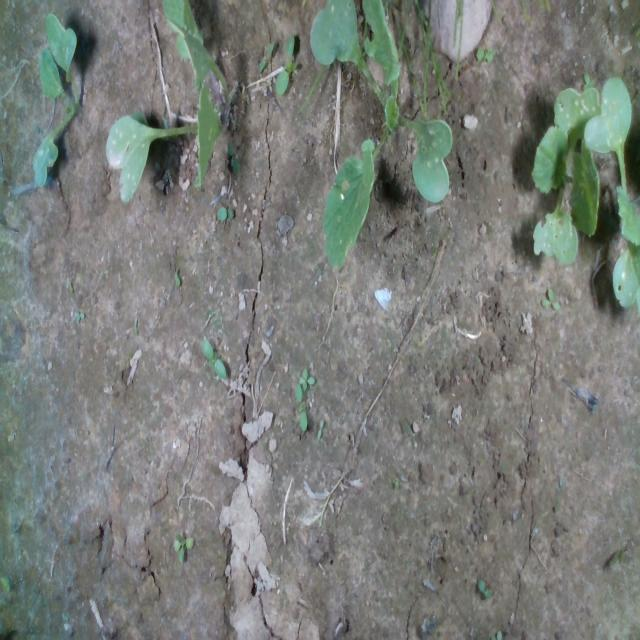weed: (274, 33, 296, 96), (200, 337, 227, 379), (256, 37, 276, 71), (172, 532, 194, 562), (539, 286, 560, 310), (214, 202, 234, 221), (477, 576, 492, 598), (172, 269, 182, 289), (72, 309, 86, 323), (316, 418, 324, 440), (390, 476, 400, 488)
